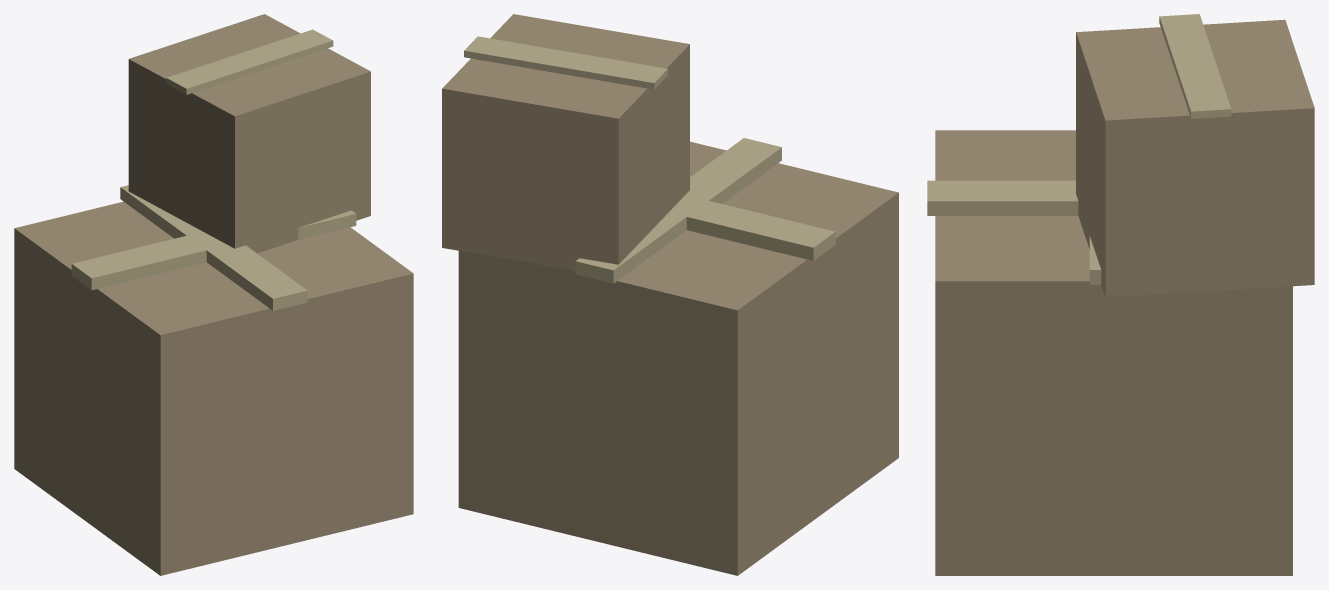
Rendered from welt_kiste.glb.
3 renders of one model, left to right at view 1: azimuth 30°, elevation 25°; view 2: azimuth 150°, elevation 25°; view 3: azimuth 270°, elevation 25°, orthographic. The views are drawn at different scales.
Parts seen in each view (by area): view 1: karton_gross, karton_klein, band_gross_a, band_gross_b, band_klein; view 2: karton_gross, karton_klein, band_gross_b, band_gross_a, band_klein; view 3: karton_gross, karton_klein, band_gross_b, band_klein.
Boxes of the visible parts, bbox=[...] form: karton_gross: bbox=[14, 201, 413, 575]; karton_klein: bbox=[128, 14, 370, 253]; band_gross_a: bbox=[71, 210, 356, 290]; band_gross_b: bbox=[120, 185, 307, 310]; band_klein: bbox=[166, 29, 333, 94]; karton_gross: bbox=[458, 141, 898, 575]; karton_klein: bbox=[442, 14, 689, 270]; band_gross_b: bbox=[575, 138, 781, 283]; band_gross_a: bbox=[669, 195, 835, 260]; band_klein: bbox=[464, 36, 667, 89]; karton_gross: bbox=[935, 130, 1292, 575]; karton_klein: bbox=[1076, 19, 1314, 297]; band_gross_b: bbox=[927, 180, 1078, 215]; band_klein: bbox=[1159, 14, 1231, 118].
Size of the model in its own units: 0.4968 by 0.65 by 0.4768.
